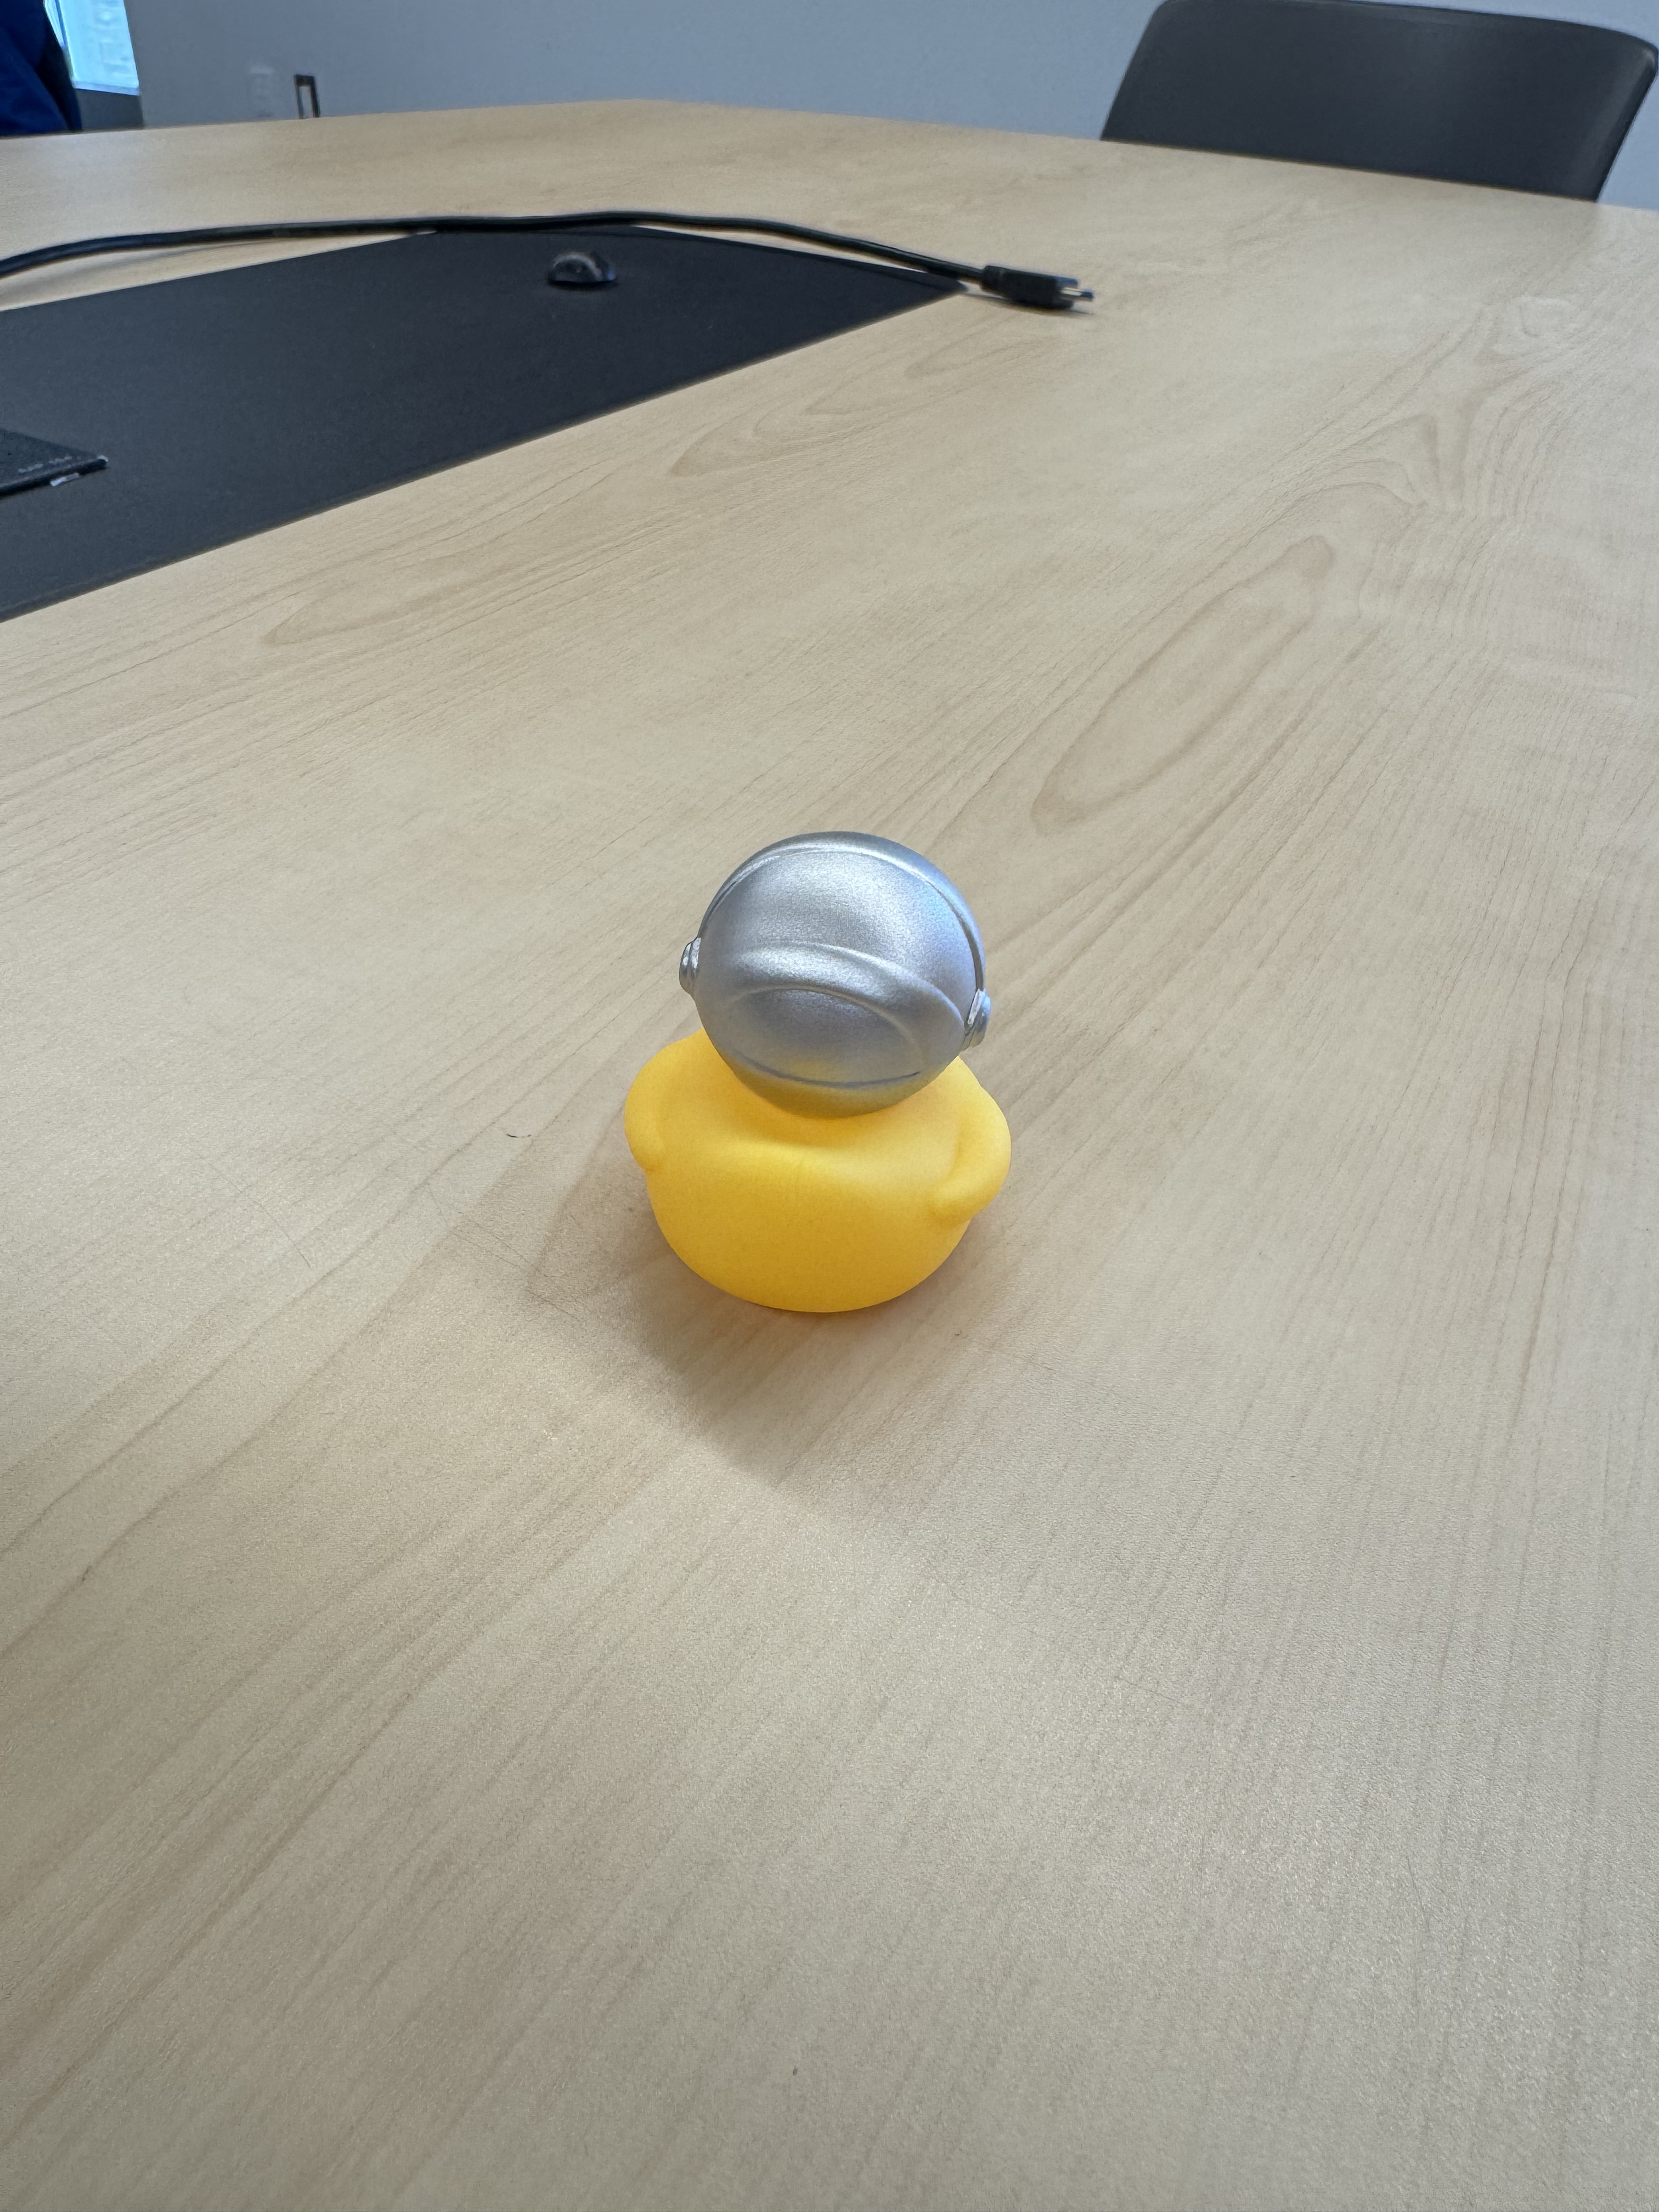duck_specialty: (617, 819, 1021, 1331)
